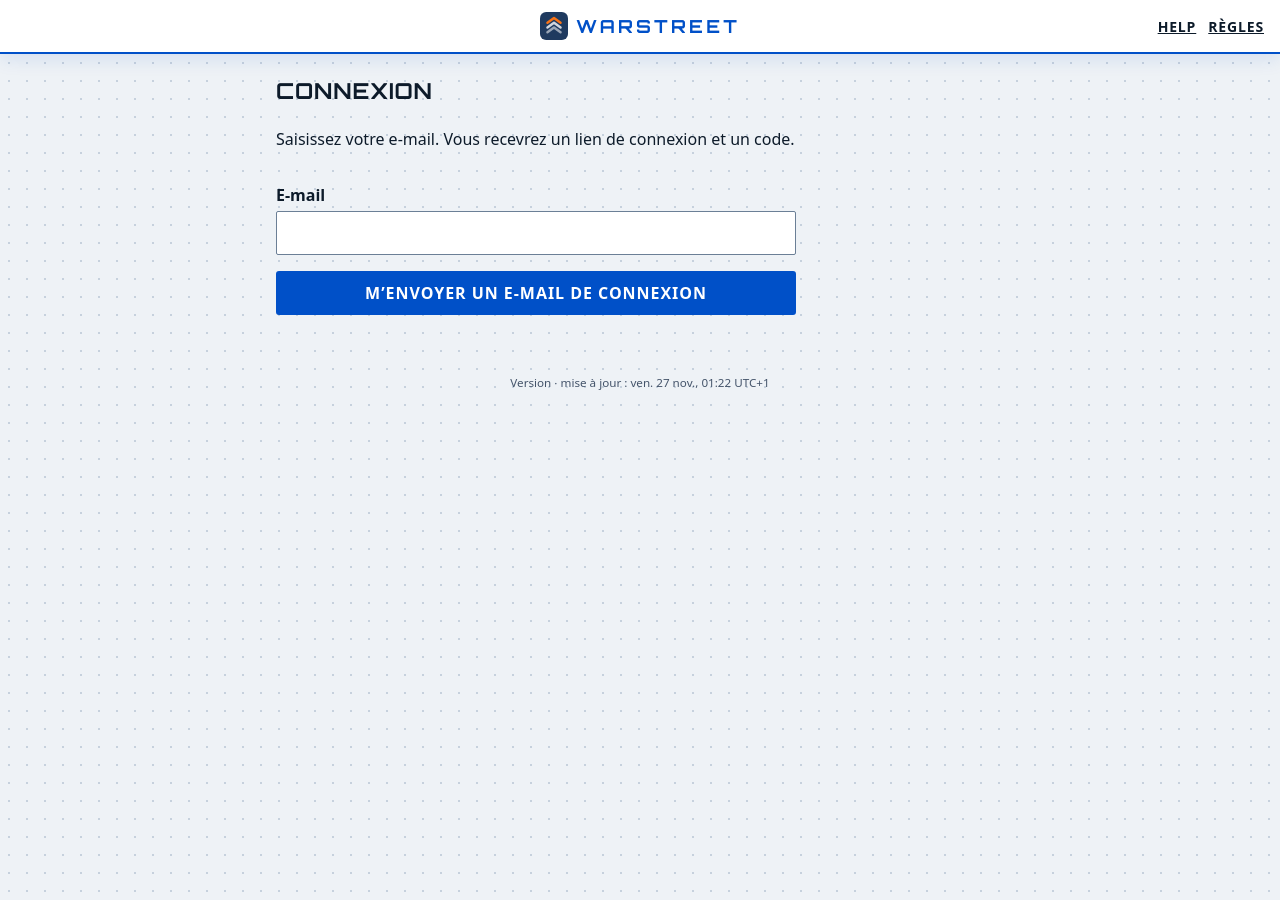
Test: login flow (no network) › asks for the 6-digit code after sending the email, with the browser language
Type "a@b.test" into the field labelled "E-mail" at coordinates (536, 233), box [276, 211, 796, 255]
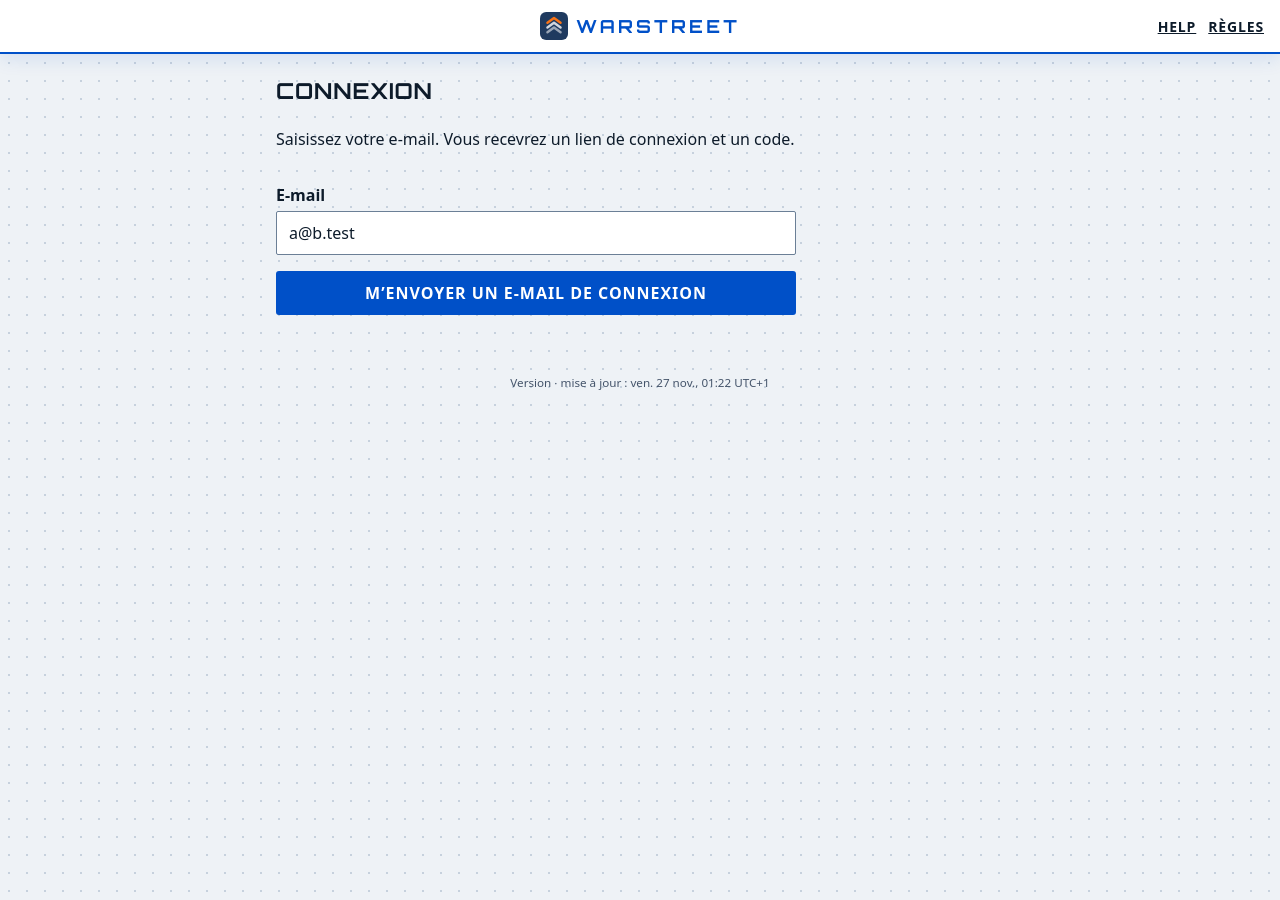
Click the button "M’envoyer un e-mail de connexion" at coordinates (536, 293), box [276, 271, 796, 315]
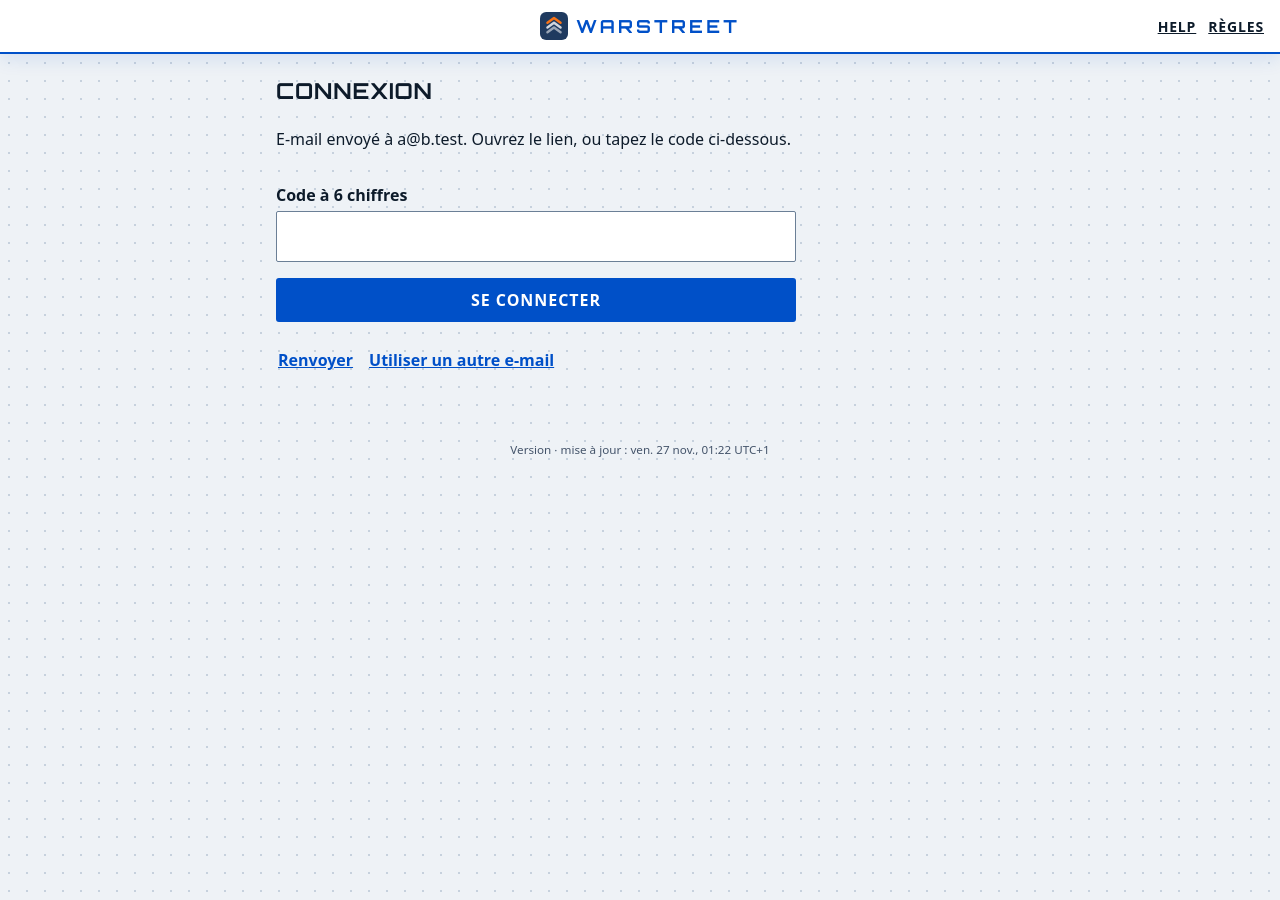
Type "12a34" into the field labelled "Code à 6 chiffres" at coordinates (536, 237), box [276, 211, 796, 262]
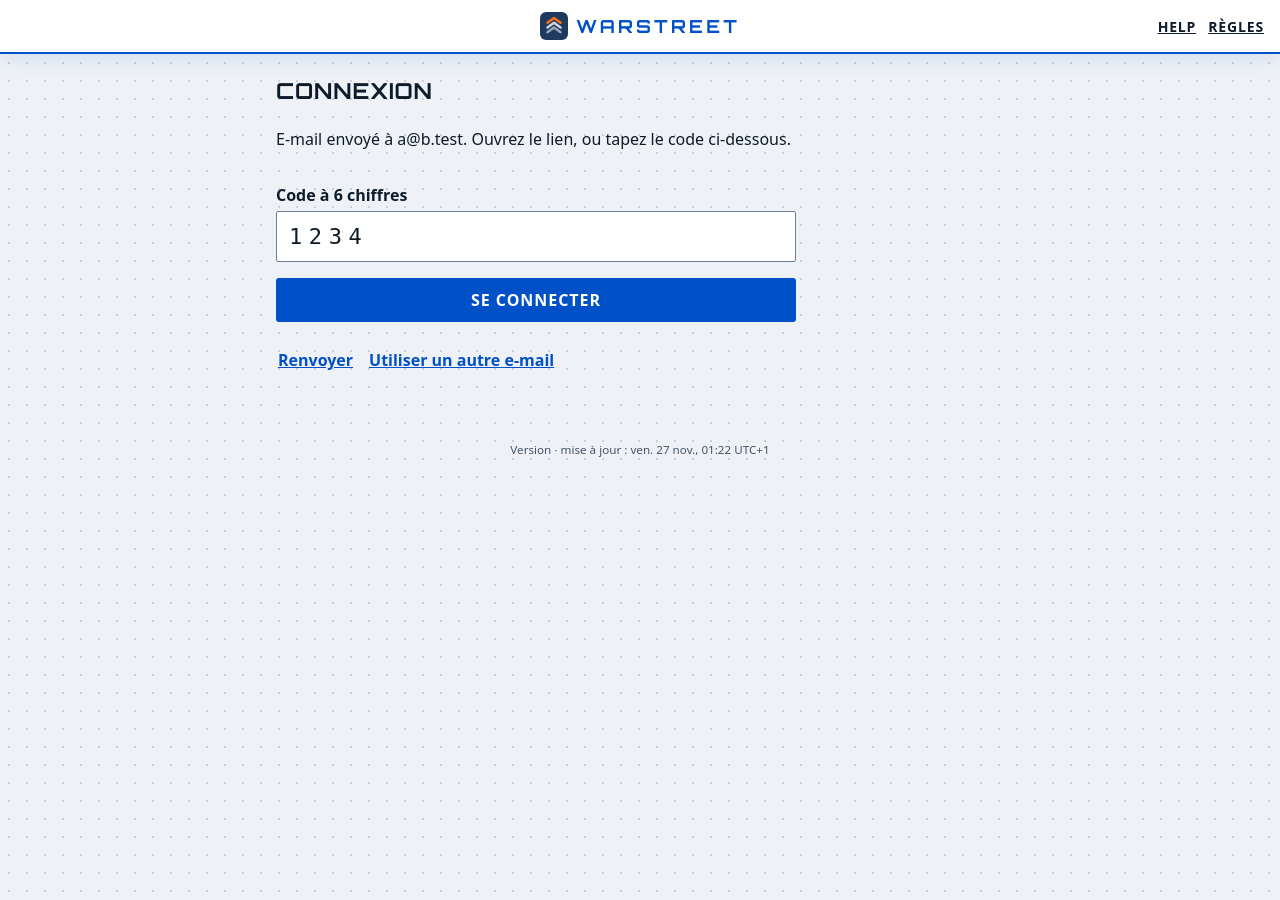
Click the button "Se connecter" at coordinates (536, 300), box [276, 278, 796, 322]
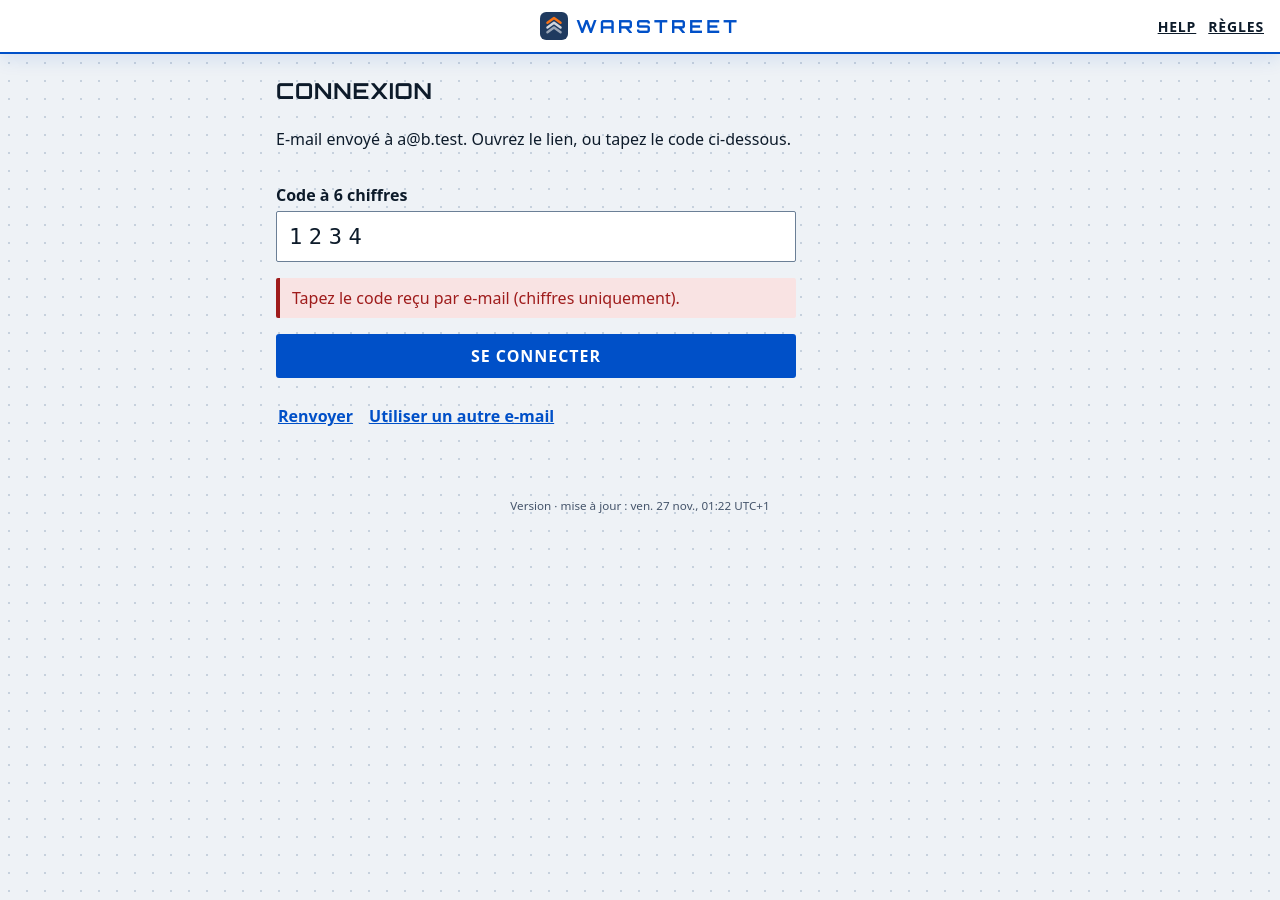
Check: the message "Tapez le code reçu par e-mail (chiffres uniquement)." is shown, box [276, 278, 796, 318]
Replace the text in the field labelled "Code à 6 chiffres" with "123456" at coordinates (536, 237), box [276, 211, 796, 262]
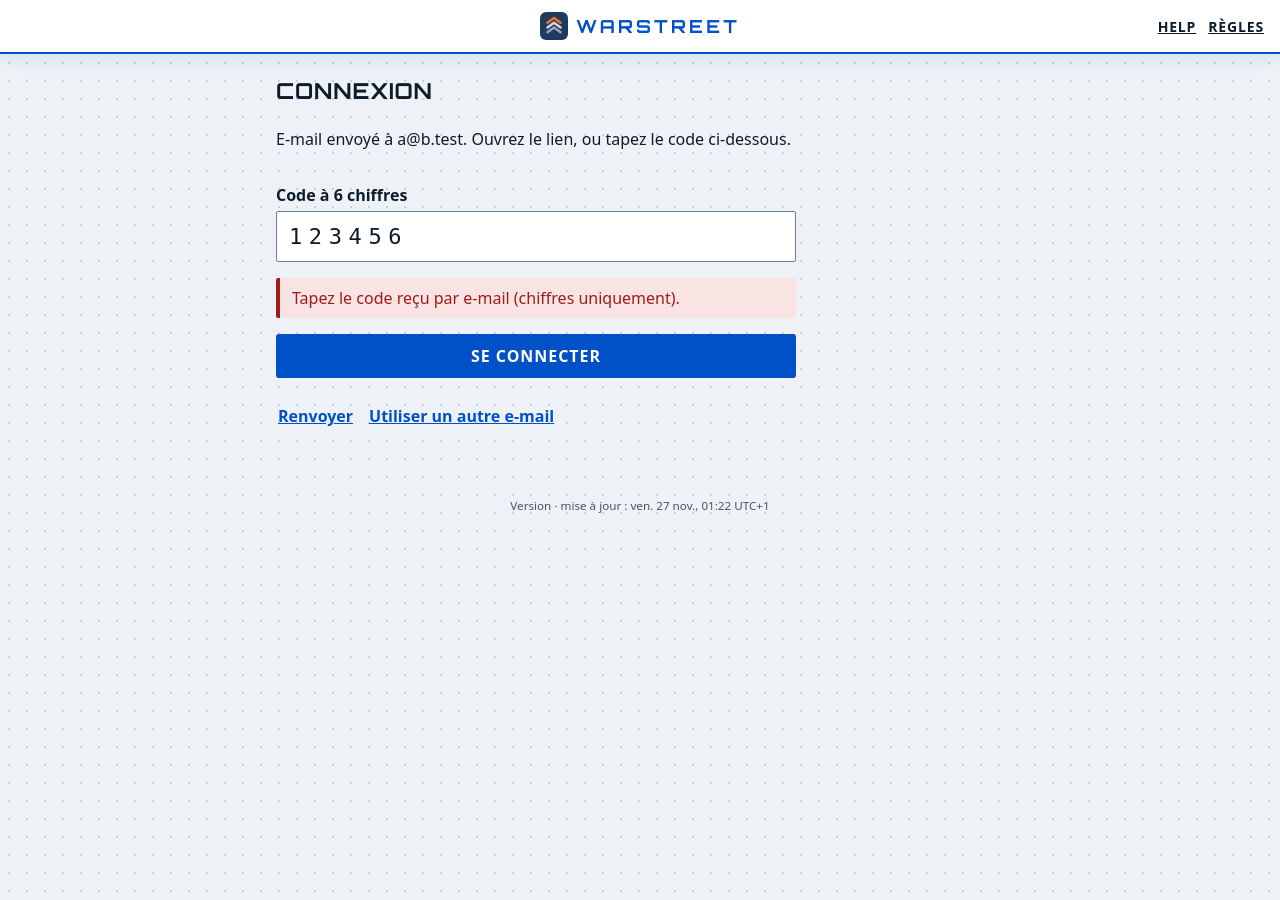
Click the button "Se connecter" at coordinates (536, 356), box [276, 334, 796, 378]
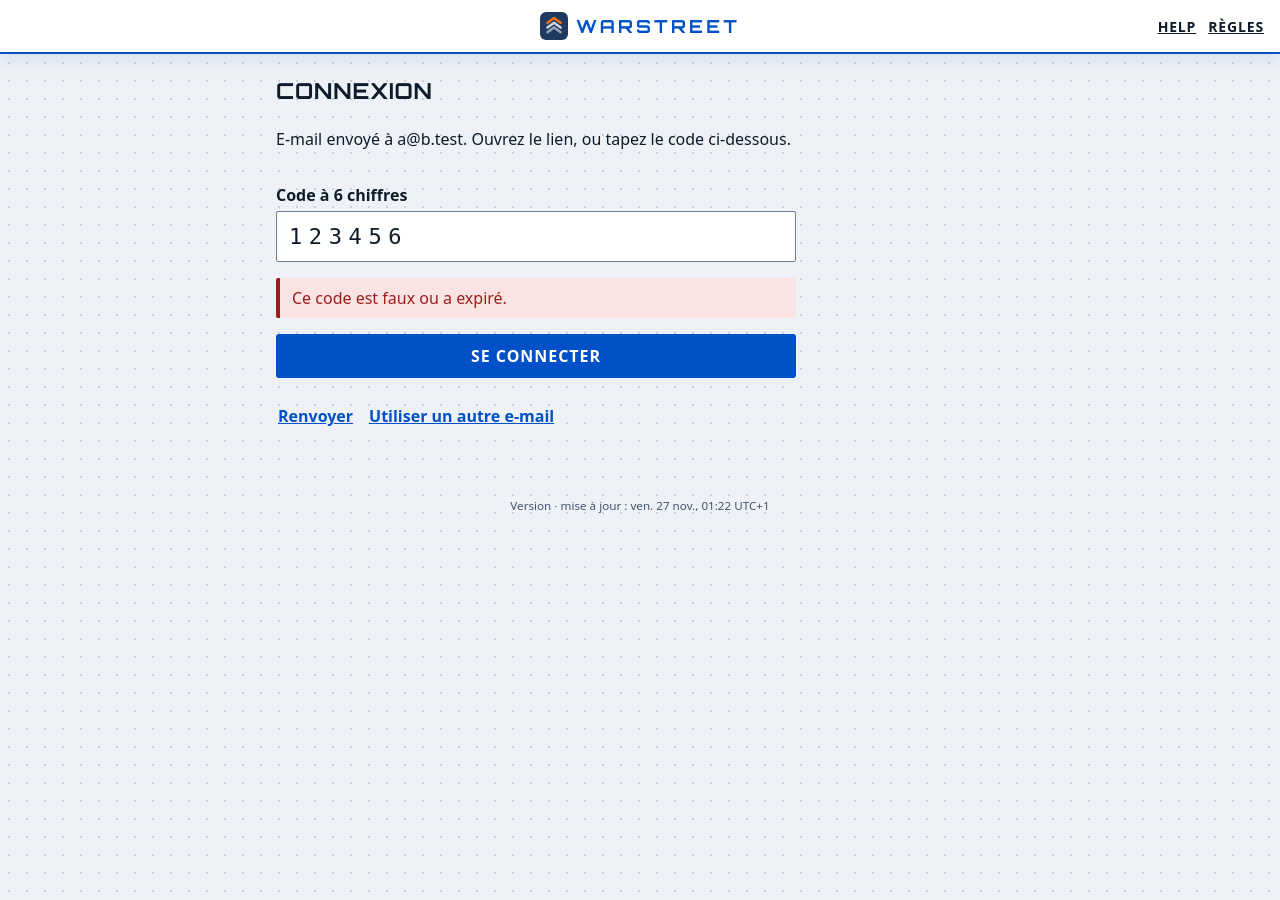
Check: the message "Ce code est faux ou a expiré." is shown, box [276, 278, 796, 318]
